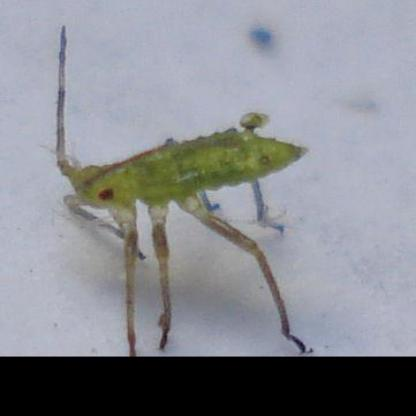aphid: (49, 29, 333, 351)
